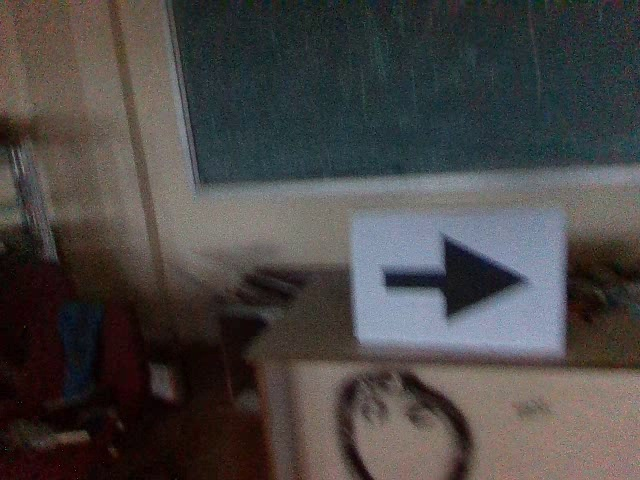Right: (376, 227, 534, 326)
